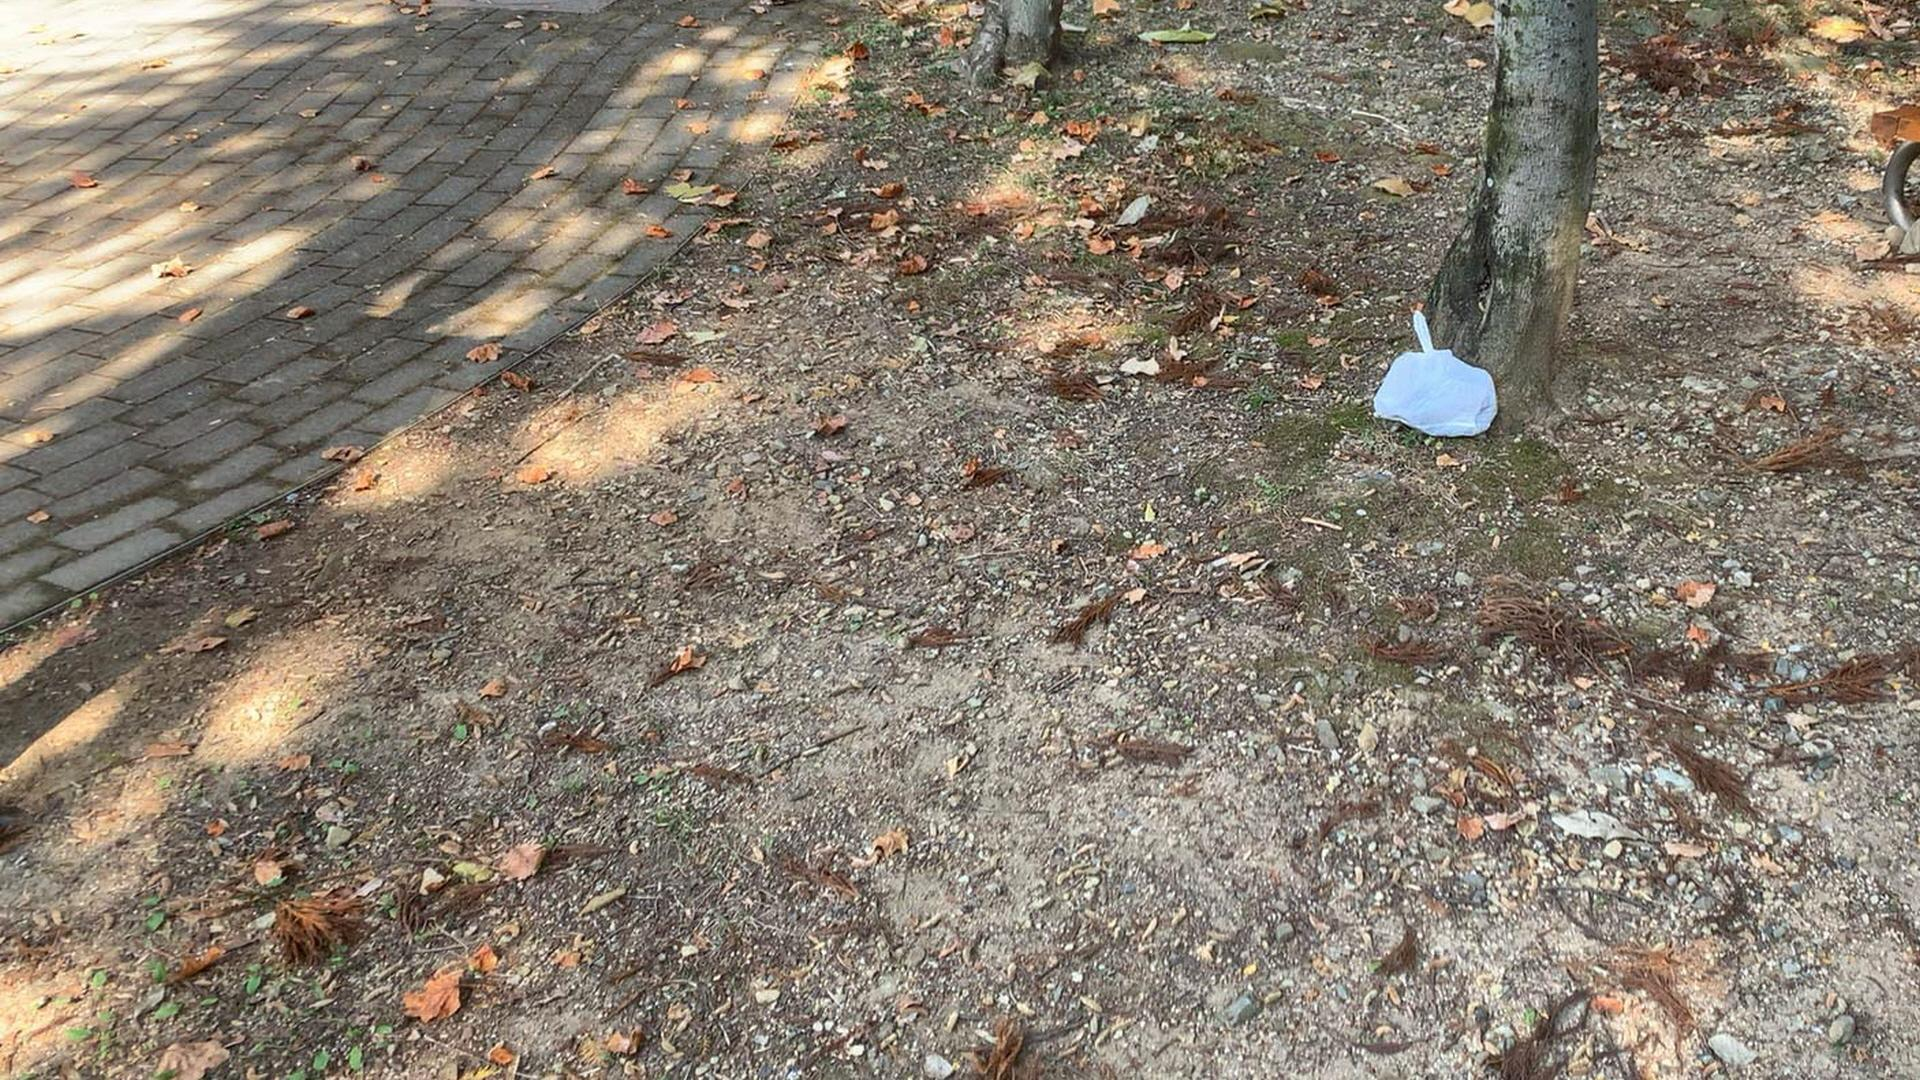white_bag: (1354, 301, 1509, 444)
